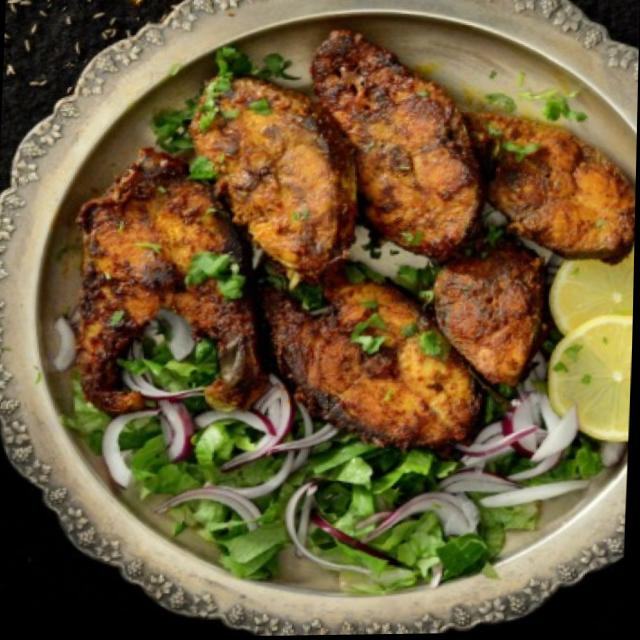FISH FRY: (59, 21, 639, 439)
